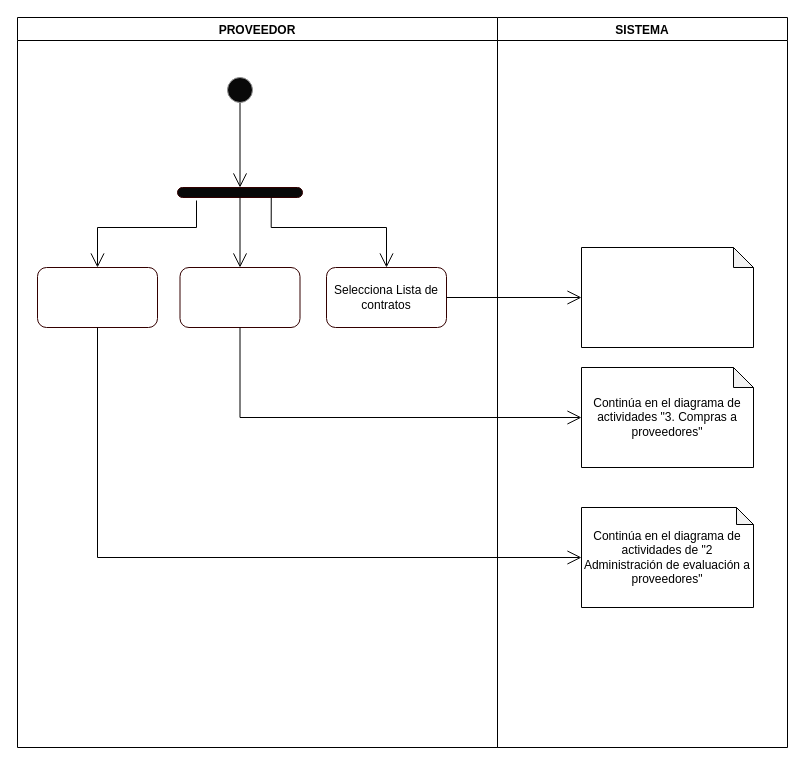
Image size: 805x765. Some labels were removed from this diagram. Each missing label, with the centre of its shape:
Continúa en el diagrama de actividades "2.3 Gestión de contrato": (x=667, y=297)
Selecciona Menú de compras: (x=239, y=297)
Selecciona Menú de evaluaciones: (x=97, y=297)
